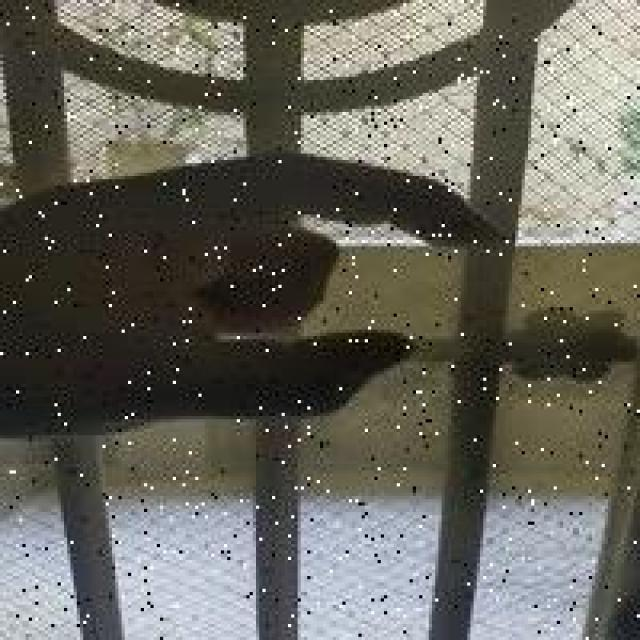Q: (2, 147, 507, 445)
